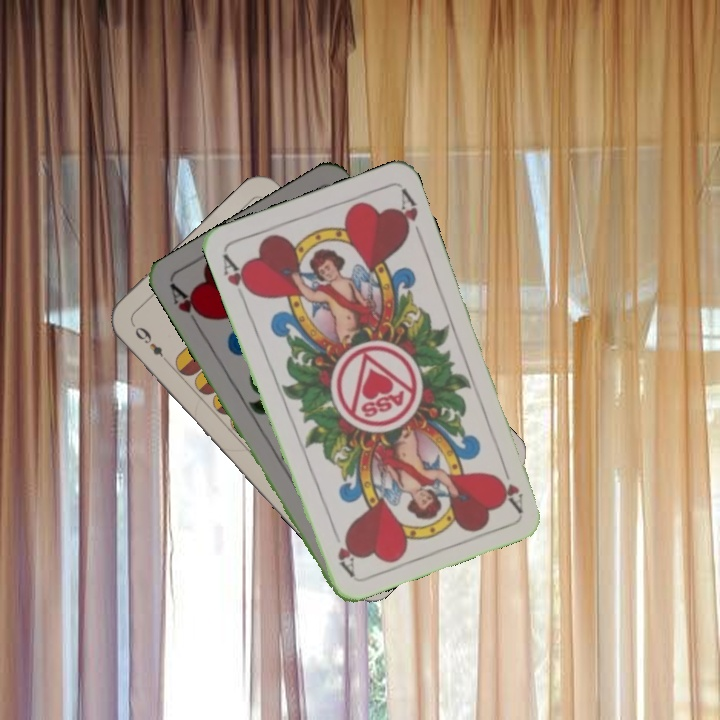E9: (130, 322, 167, 359)
HA: (166, 280, 210, 334), (219, 250, 256, 306), (492, 456, 526, 514)
